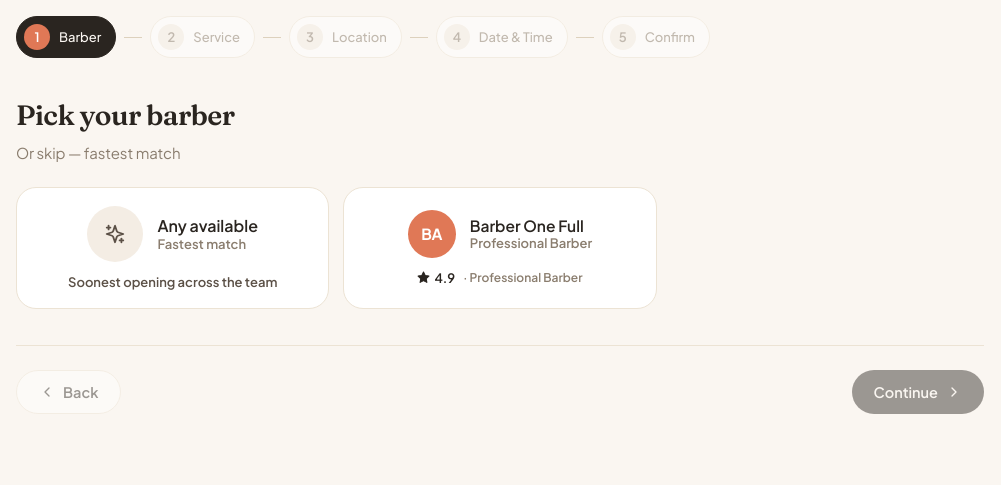
Test: BookingFlow Component › advances to service step after selecting a barber and clicking Continue
Click the text "Barber One Full" at (531, 226), box [470,216,592,235]
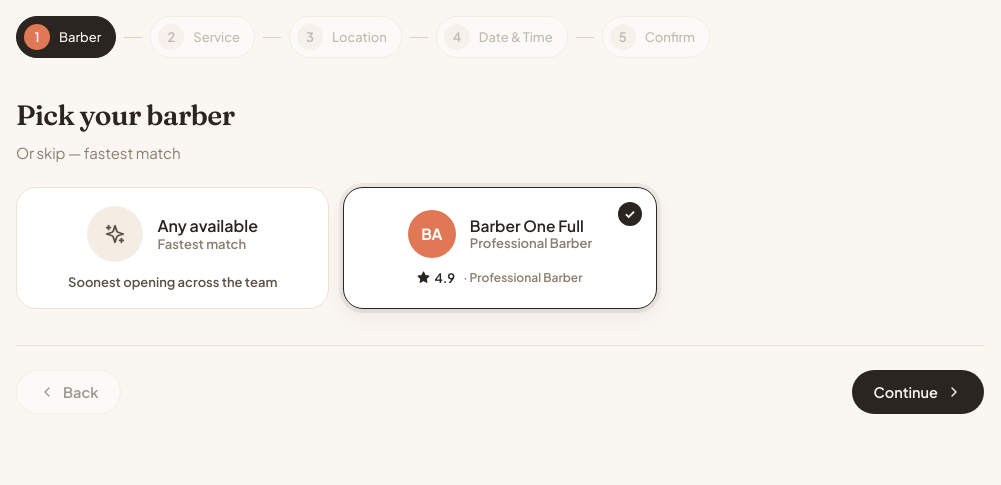
Click the button "Continue" at (918, 392), box [852,370,984,414]
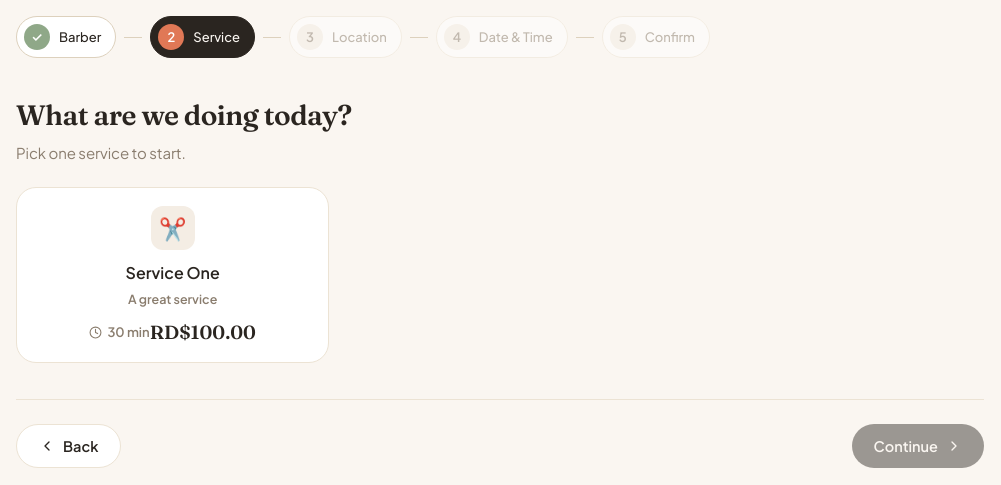
Check: the heading "What are we doing today?" is shown, box [16,98,352,132]
Check: the text "Service One" is shown, box [126,262,220,282]
